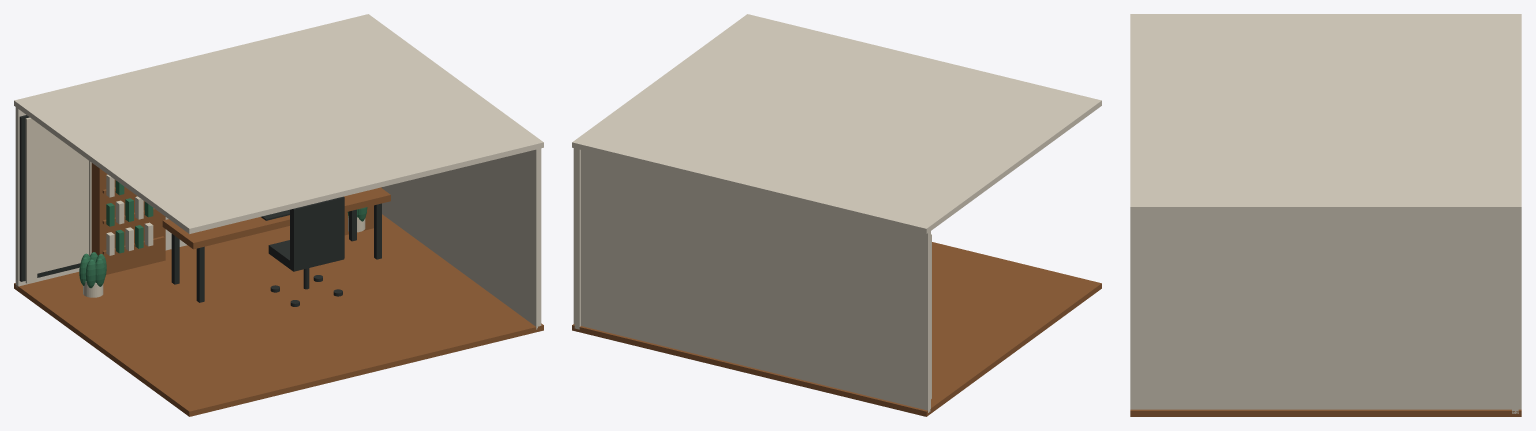
The model's file is true-3d-developer-room.glb.
The picture shows the model from 3 angles, left to right: view 1: azimuth 30°, elevation 25°; view 2: azimuth 150°, elevation 25°; view 3: azimuth 270°, elevation 25°; orthographic projection. The views are drawn at different scales.
Parts seen in each view (by area): view 1: Ceiling, Wood floor, Right wall, Window view, Bookcase, Chair back, Standing desk, Curtain L, Back wall, Window frame, Chair seat, Desk leg; view 2: Back wall, Ceiling, Wood floor, Right wall; view 3: Ceiling, Right wall, Wood floor, Back wall.
Part boxes in pixels (<box>): Ceiling: <box>14,14,543,233</box>; Wood floor: <box>14,214,543,416</box>; Right wall: <box>362,15,541,329</box>; Window view: <box>37,123,88,273</box>; Bookcase: <box>91,163,165,274</box>; Chair back: <box>290,196,344,270</box>; Standing desk: <box>162,187,390,249</box>; Curtain L: <box>25,117,37,283</box>; Back wall: <box>15,15,371,287</box>; Window frame: <box>19,115,80,281</box>; Chair seat: <box>268,240,344,271</box>; Desk leg: <box>196,246,204,302</box>; Back wall: <box>573,139,930,412</box>; Ceiling: <box>572,14,1101,233</box>; Wood floor: <box>572,242,1101,416</box>; Right wall: <box>574,15,754,329</box>; Ceiling: <box>1130,14,1521,212</box>; Right wall: <box>1130,203,1521,409</box>; Wood floor: <box>1130,409,1521,416</box>; Back wall: <box>1512,14,1518,413</box>.
Size of the model in its own units: 14 by 7.1 by 12.
